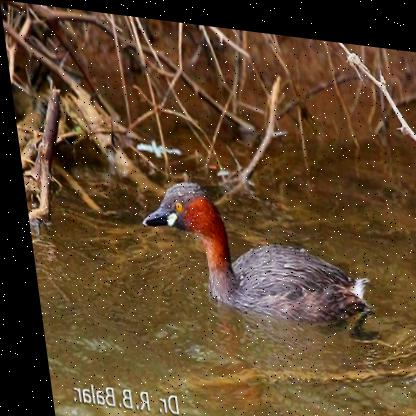Burung: (131, 172, 364, 316)
